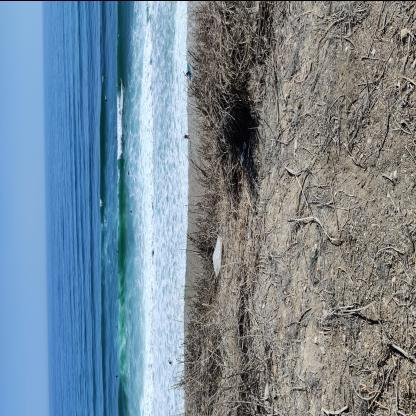plastik: (213, 236, 223, 278)
